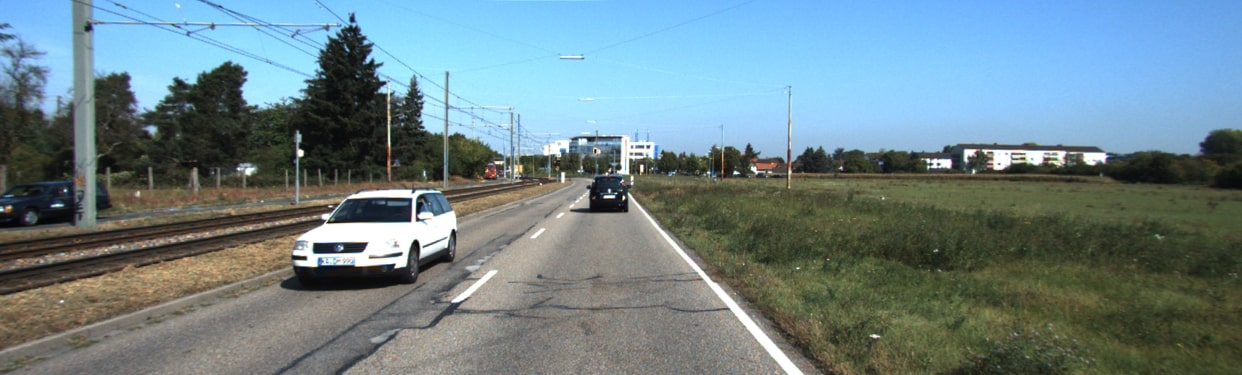car: (284, 188, 464, 290), (1, 177, 109, 231), (589, 172, 631, 214)
